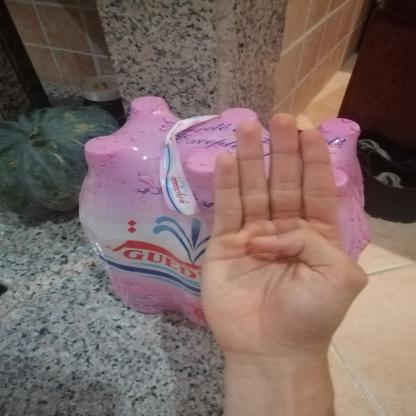KAAF: (181, 101, 387, 371)
